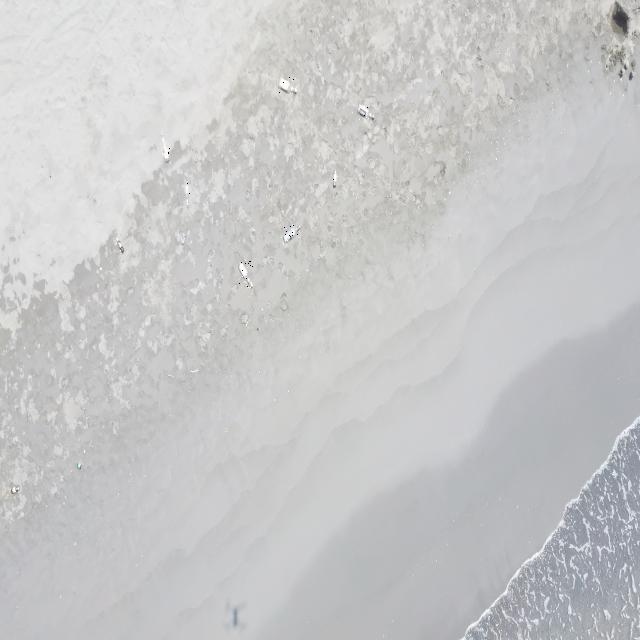glass: (238, 261, 253, 288), (278, 77, 297, 94), (283, 225, 301, 242), (161, 132, 170, 161), (358, 104, 374, 120), (184, 180, 190, 208), (116, 238, 125, 254), (332, 169, 338, 187), (10, 486, 20, 494), (76, 460, 82, 471)
